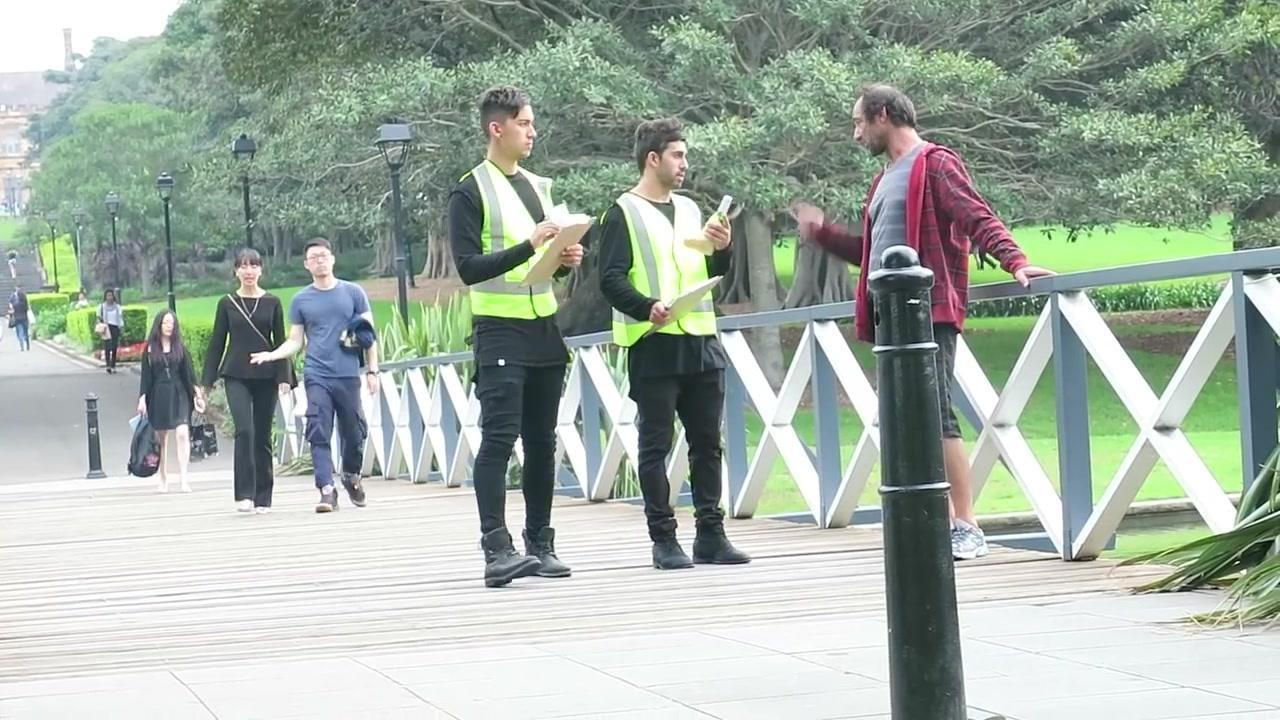vest: (610, 185, 715, 349), (458, 160, 559, 317)
